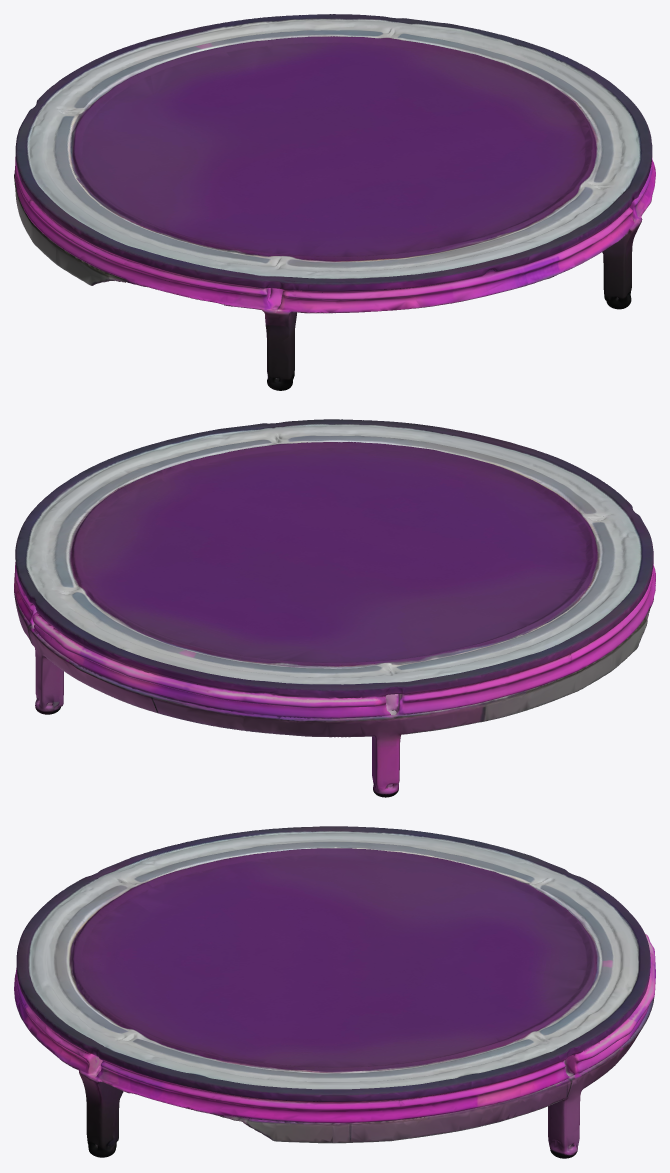
The model's file is platform3.glb.
The picture shows the model from 3 angles, top to bottom: view 1: azimuth 30°, elevation 25°; view 2: azimuth 150°, elevation 25°; view 3: azimuth 270°, elevation 25°; orthographic projection.
Parts seen in each view (by area): view 1: tripo_node_ed8d8ceb-5ff1-43bb-b0f9-9aca9c605056; view 2: tripo_node_ed8d8ceb-5ff1-43bb-b0f9-9aca9c605056; view 3: tripo_node_ed8d8ceb-5ff1-43bb-b0f9-9aca9c605056.
Part boxes in pixels (left/top/right/bottom): tripo_node_ed8d8ceb-5ff1-43bb-b0f9-9aca9c605056: left=14, top=14, right=655, bottom=390; tripo_node_ed8d8ceb-5ff1-43bb-b0f9-9aca9c605056: left=14, top=419, right=655, bottom=797; tripo_node_ed8d8ceb-5ff1-43bb-b0f9-9aca9c605056: left=14, top=826, right=655, bottom=1158.
Size of the model in its own units: 0.995 by 0.1989 by 1.
1 material, 1 textured.
